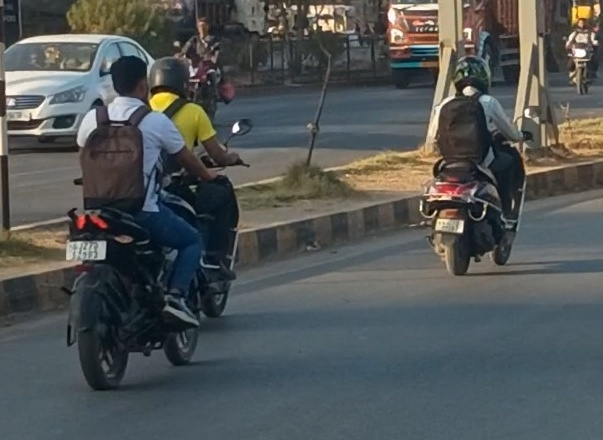BikeWithRider: (53, 53, 227, 394), (121, 53, 258, 321), (410, 51, 538, 280), (164, 13, 235, 124), (562, 14, 603, 97)
Helmet: (147, 55, 198, 101), (447, 52, 496, 97)
NoHelmet: (106, 53, 155, 107)
